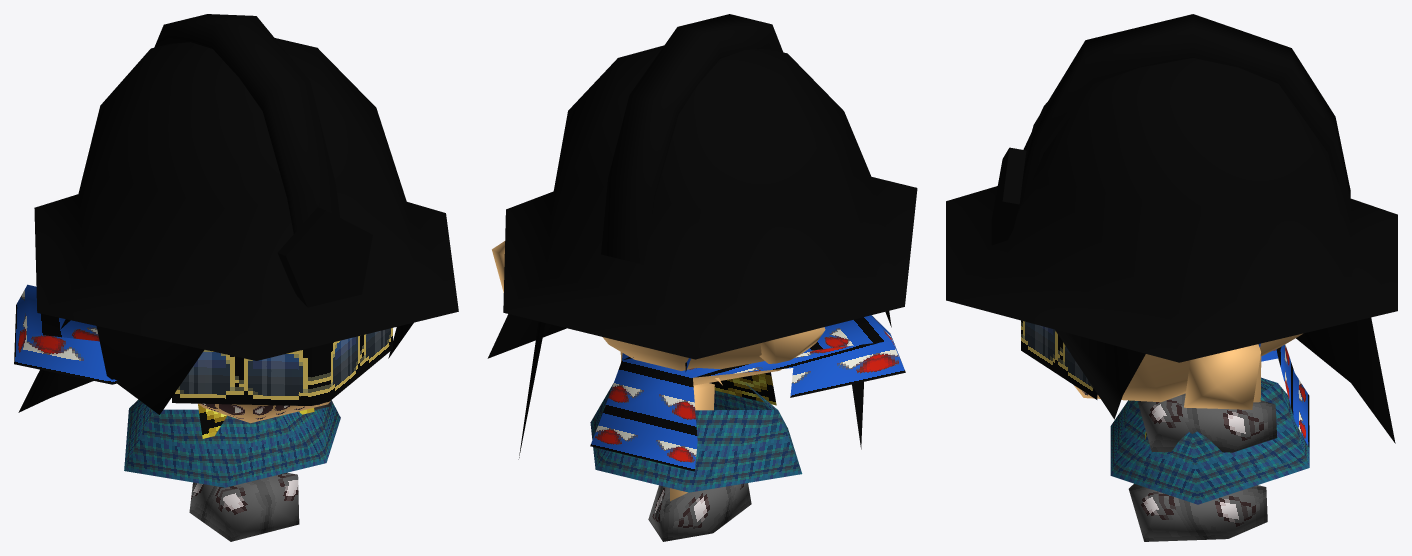
3 views of the same model, side by side, from view 1: azimuth 30°, elevation 25°; view 2: azimuth 150°, elevation 25°; view 3: azimuth 270°, elevation 25° (orthographic). The views are drawn at different scales.
Parts seen in each view (by area): view 1: pmd40_00_03; view 2: pmd40_00_03; view 3: pmd40_00_03.
Part boxes in pixels (<box>): pmd40_00_03: <box>14,14,458,541</box>; pmd40_00_03: <box>487,14,917,541</box>; pmd40_00_03: <box>946,14,1397,541</box>.
Bounding box in the file's own units: 1.24 × 1.4 × 1.15.
Materials: 8 (8 with a texture image).
